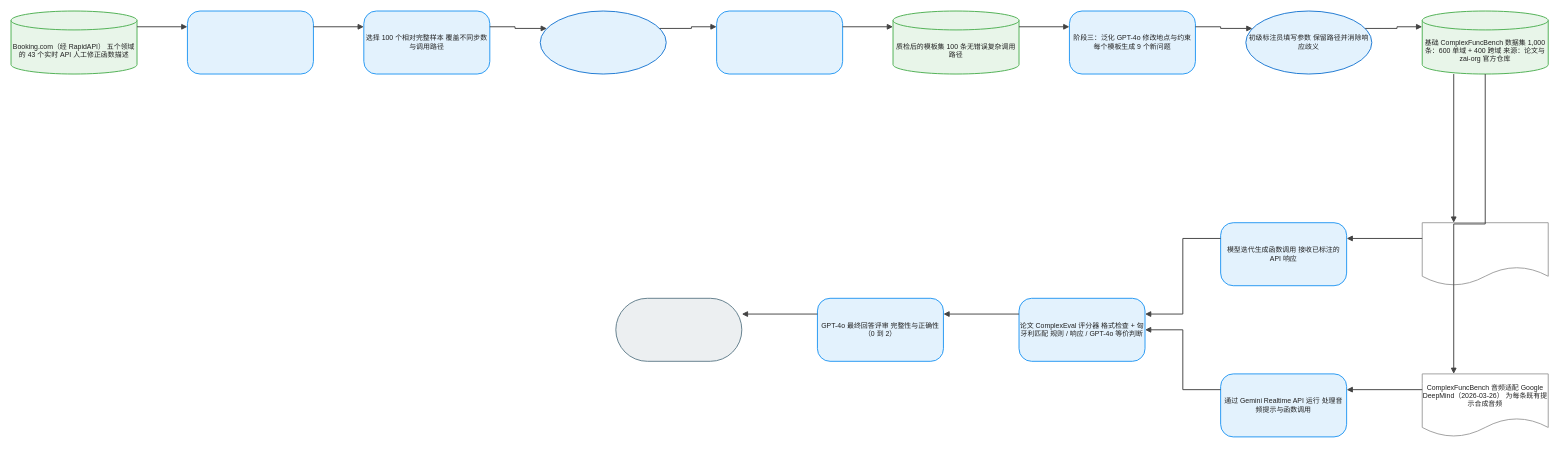
This 1560x449 diagram has some shape labels left out. The centre of each missing label's shape, as x and y in pixels:
"报告成功率与调用准确率 以及完整性与正确性" belongs at point (678, 329).
"消除歧义 排除功能重叠函数并删除 导致多个有效参数的 API 结果" belongs at point (779, 42).
"论文文本到文本协议 静态上下文与相互依赖调用" belongs at point (1484, 254).
"阶段一：粗粒度生成 GPT-4o 采样函数并生成 1,000 个问题与初始调用路径" belongs at point (250, 42).
"阶段二：资深标注 改写问题、修正参数 构造最短且完整的调用路径" belongs at point (602, 42).
